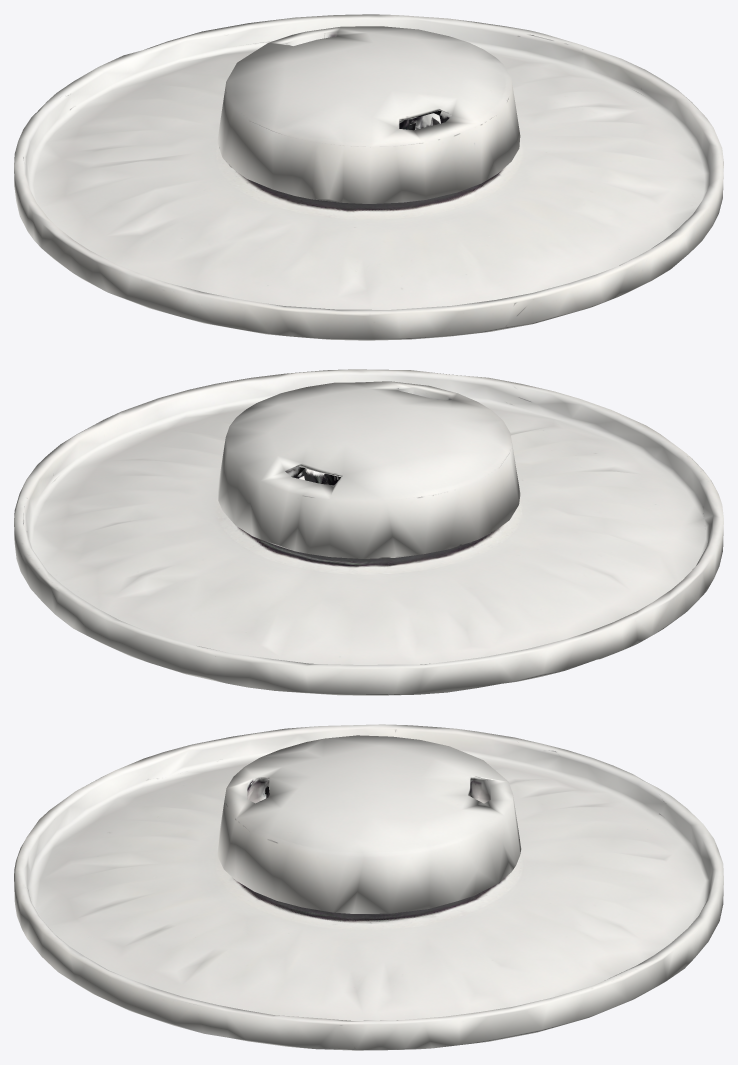
File: Meshy_AI_humidifier_lid_0412075509_texture.obj
The picture shows the model from 3 angles, top to bottom: view 1: azimuth 30°, elevation 25°; view 2: azimuth 150°, elevation 25°; view 3: azimuth 270°, elevation 25°; orthographic projection.
Parts seen in each view (by area): view 1: Meshy_AI_humidifier_lid_0412075509_texture; view 2: Meshy_AI_humidifier_lid_0412075509_texture; view 3: Meshy_AI_humidifier_lid_0412075509_texture.
Boxes of the visible parts, <box> form: Meshy_AI_humidifier_lid_0412075509_texture: <box>14,14,723,340</box>; Meshy_AI_humidifier_lid_0412075509_texture: <box>14,369,723,695</box>; Meshy_AI_humidifier_lid_0412075509_texture: <box>14,724,723,1050</box>.
Size of the model in its own units: 1.91 by 0.4266 by 1.91.
1 material, 1 textured.
